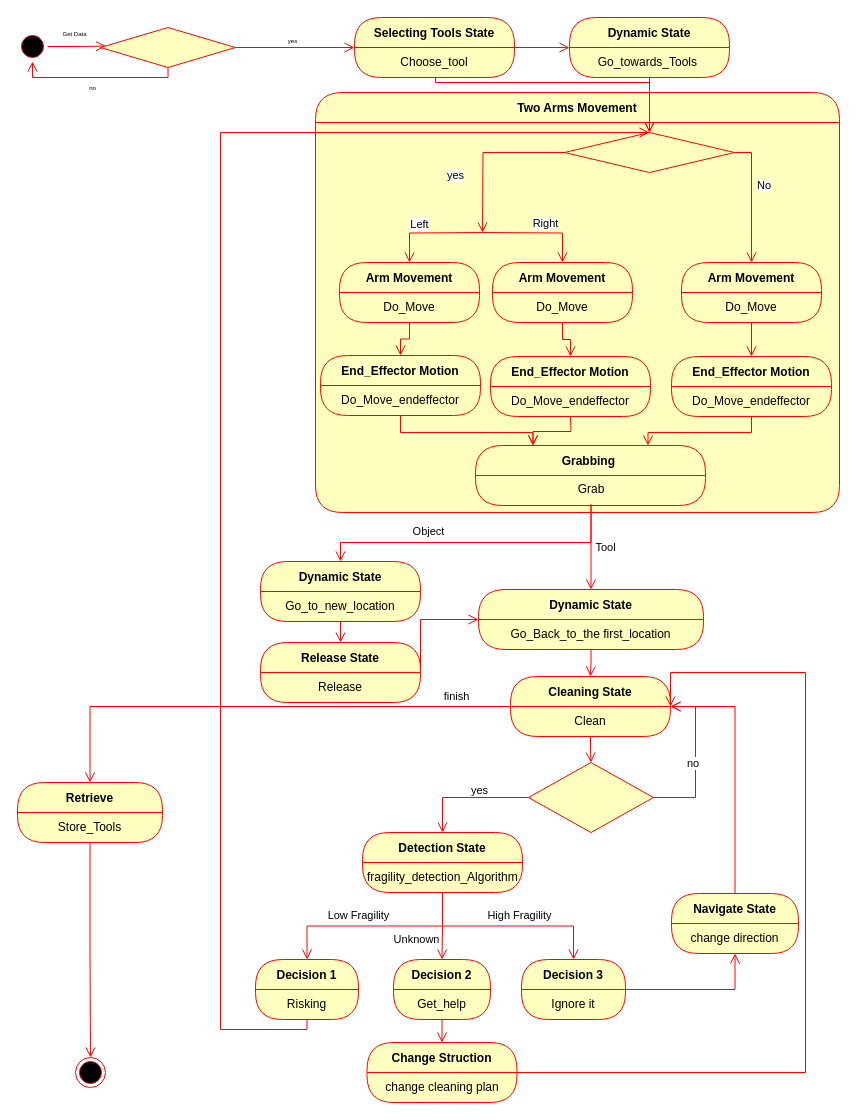
Some shapes in this 857 by 1120 pixel diagram are drawn without their labels. The centre of each missing label's shape, as x and y in pixels:
Detect a fragile object: the point at 591,797
Needs both hands: the point at 649,152
needs clean: the point at 168,47
